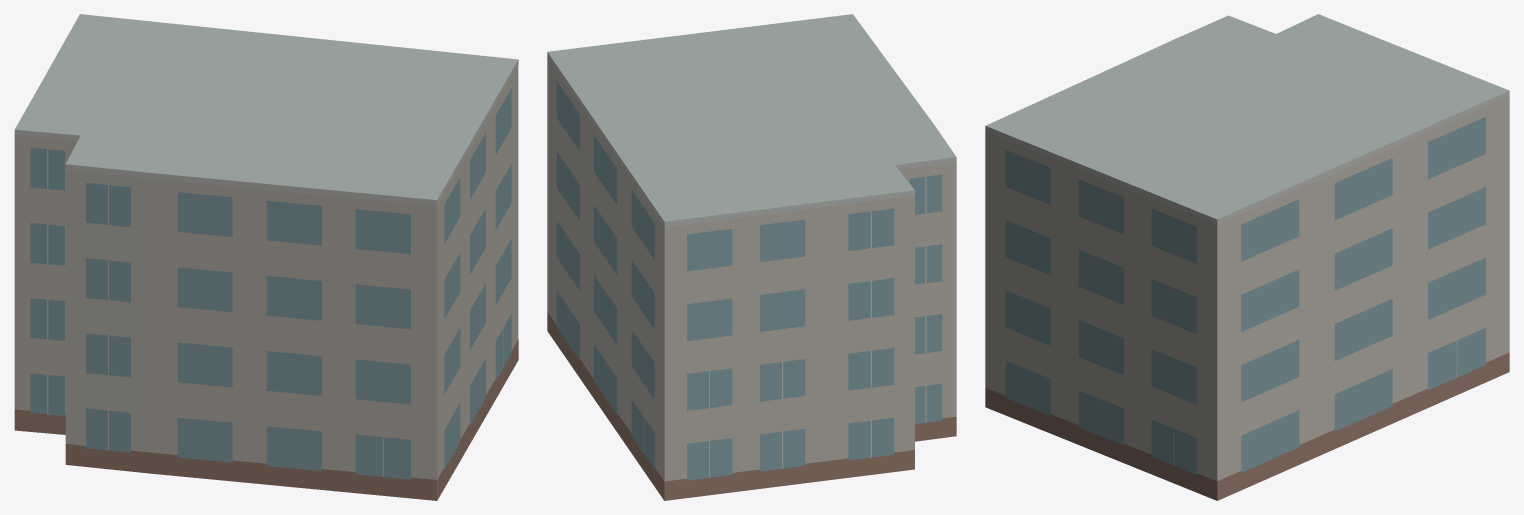
File: survey-upis-33007384.glb
3 views of the same model, side by side, from view 1: azimuth 30°, elevation 25°; view 2: azimuth 150°, elevation 25°; view 3: azimuth 270°, elevation 25° (orthographic). The views are drawn at different scales.
Parts seen in each view (by area): view 1: survey-upis-33007384.tmp; view 2: survey-upis-33007384.tmp; view 3: survey-upis-33007384.tmp.
Part boxes in pixels (left/top/right/bottom): survey-upis-33007384.tmp: left=14, top=14, right=518, bottom=500; survey-upis-33007384.tmp: left=547, top=14, right=956, bottom=500; survey-upis-33007384.tmp: left=985, top=14, right=1509, bottom=500.
Bounding box in the file's own units: 19.35 × 12.35 × 20.86.
